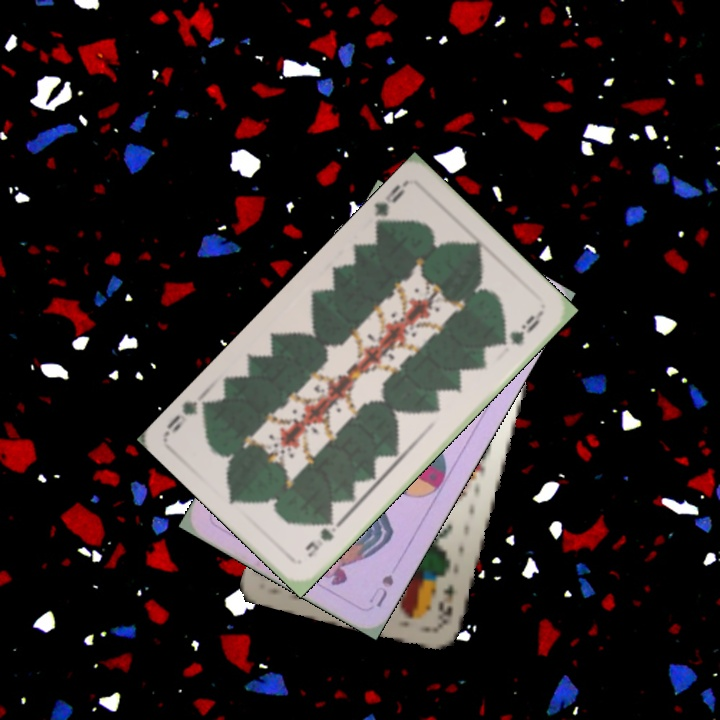EK: (434, 580, 457, 620)
G9: (370, 177, 410, 232), (301, 514, 344, 560)
SU: (364, 570, 397, 610)
